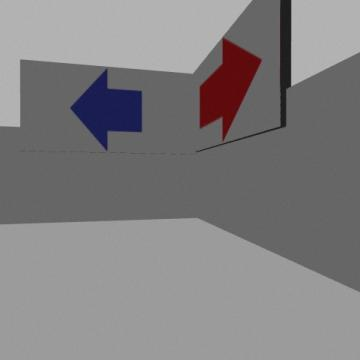blue_left: (70, 69, 142, 150)
red_right: (200, 38, 261, 141)
